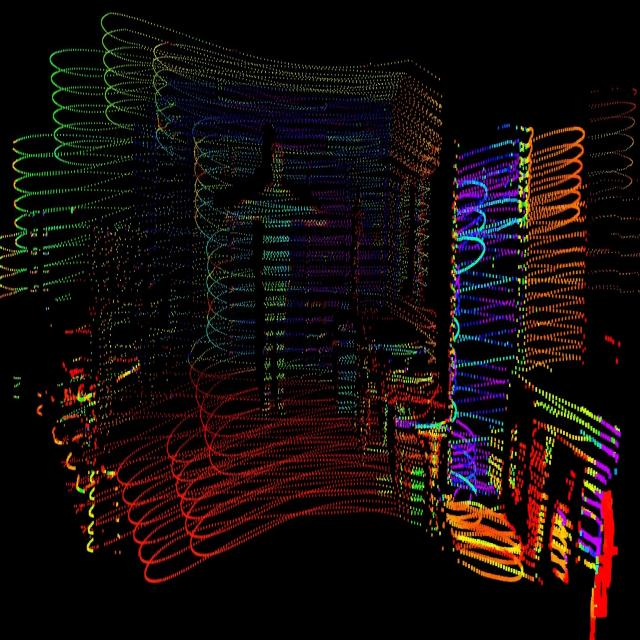human: (222, 128, 330, 433)
